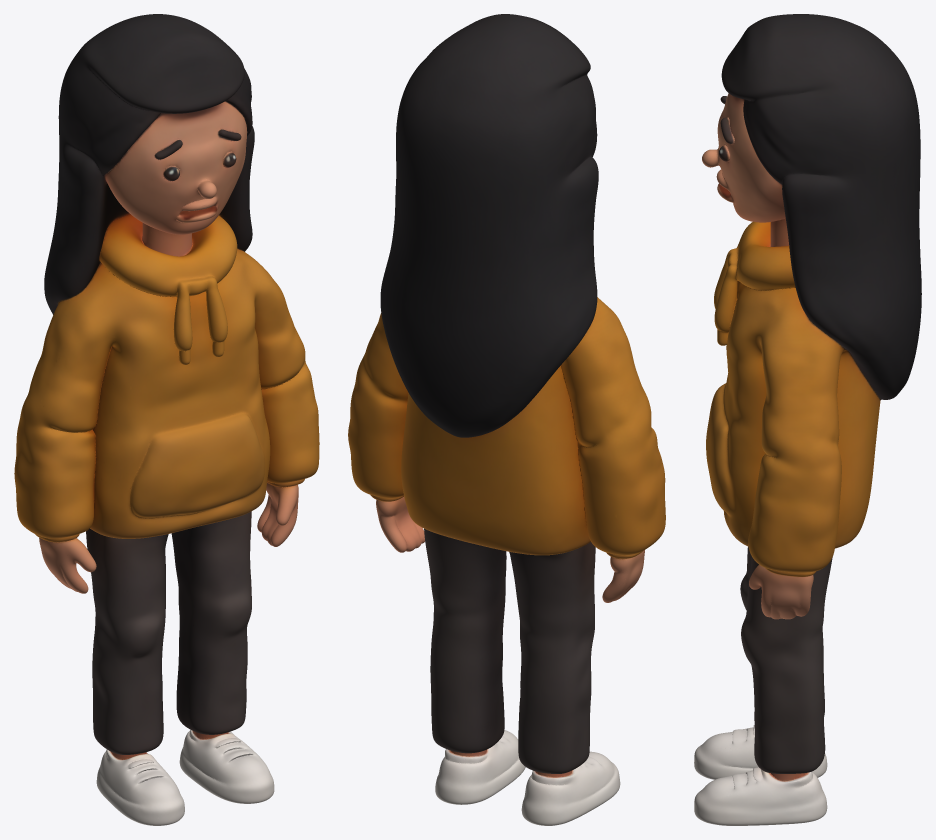
File: haru_rodin.glb
3 renders of one model, left to right at view 1: azimuth 30°, elevation 25°; view 2: azimuth 150°, elevation 25°; view 3: azimuth 270°, elevation 25°, orthographic. The views are drawn at different scales.
Visible parts, largest first — view 1: model; view 2: model; view 3: model.
Part boxes in pixels (bbox=[...]): model: bbox=[14, 14, 319, 825]; model: bbox=[348, 14, 665, 825]; model: bbox=[694, 14, 921, 825].
Size of the model in its own units: 0.7594 by 1.89 by 0.5075.
Materials: 1 (1 with a texture image).
